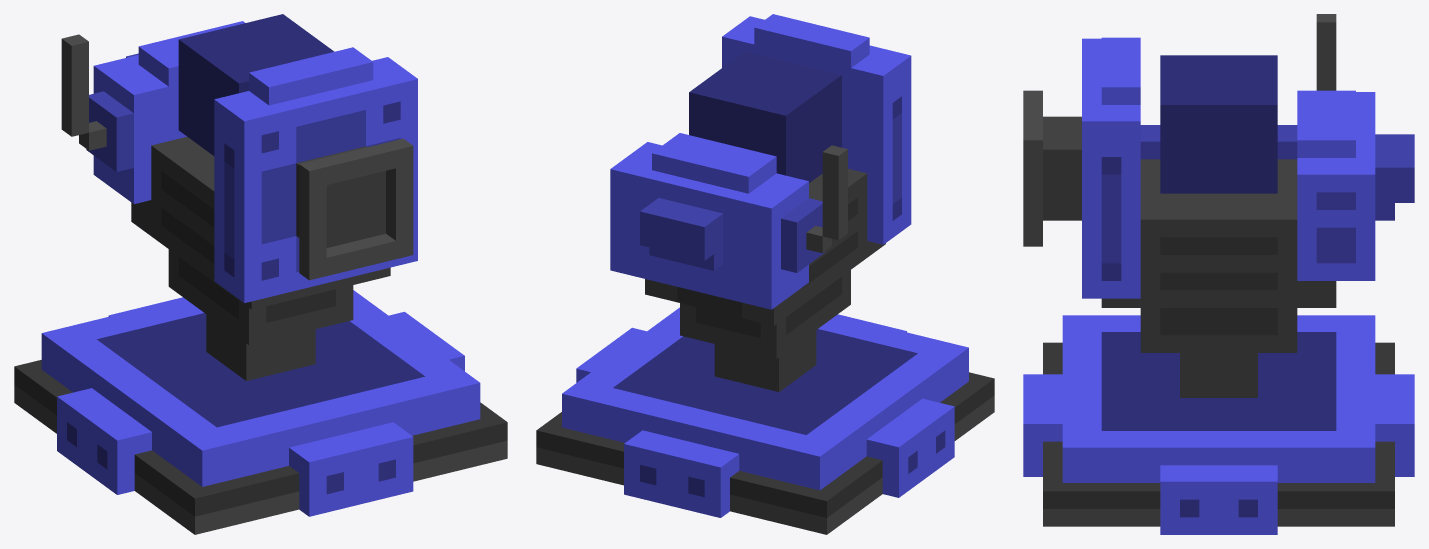
The model's file is Turret(Tower_Defens)-7.obj.
The picture shows the model from 3 angles, left to right: view 1: azimuth 30°, elevation 25°; view 2: azimuth 150°, elevation 25°; view 3: azimuth 270°, elevation 25°; orthographic projection. The views are drawn at different scales.
Bounding box in the file's own units: 2 × 2.2 × 2.
1 material, 1 textured.
